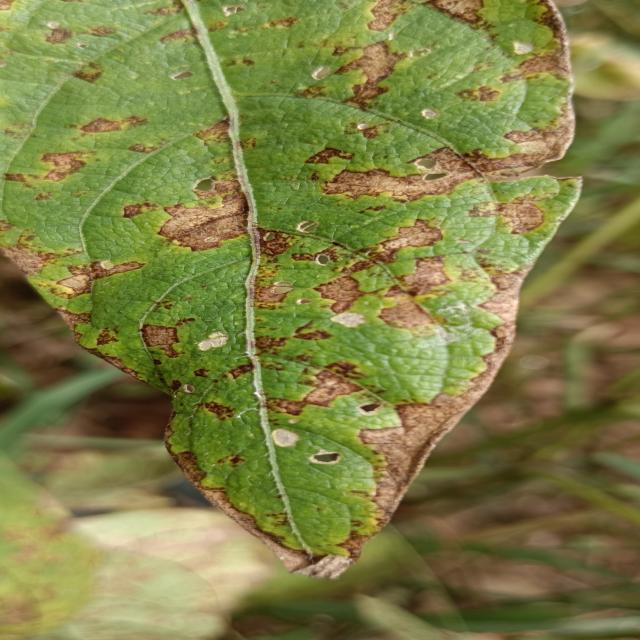Black gram_leaf spot: (5, 0, 588, 574)
